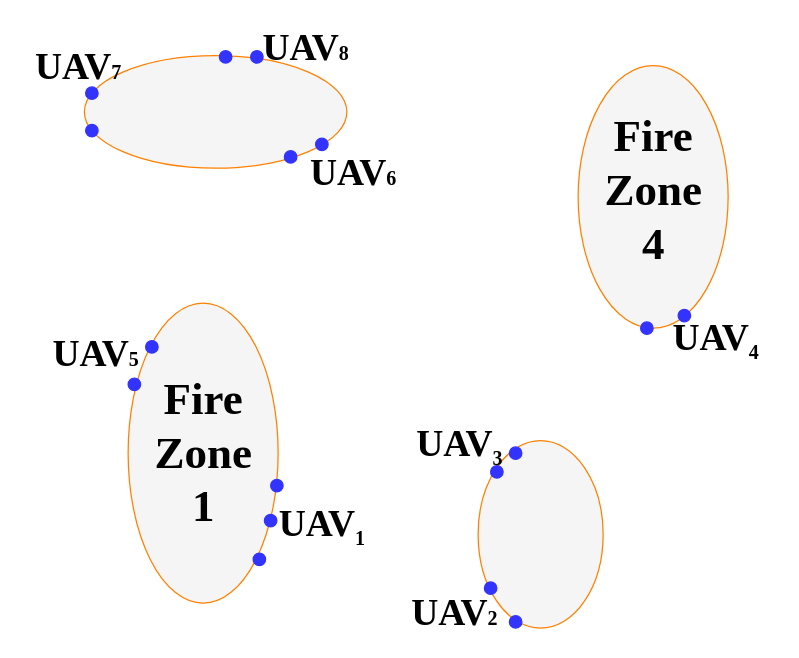
Image size: 799x658. Some labels were removed from this diagram. The box of each missing label's shape, as (x1, y1, x2, y2) in pixels:
Fire Zone 2: (477, 439, 603, 628)
Fire Zone 3: (83, 54, 347, 168)
